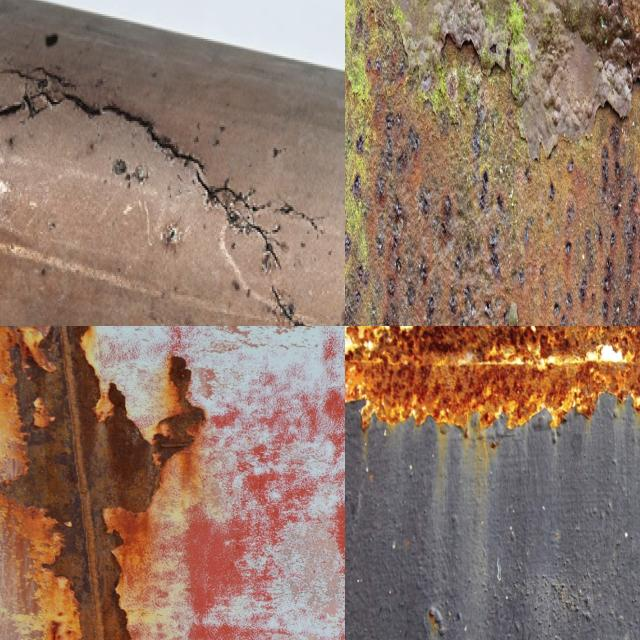Crack: (0, 43, 345, 326)
Pitting Corrosion: (345, 0, 640, 326), (345, 326, 640, 423)
Uniform Corrosion: (3, 326, 153, 640), (152, 356, 205, 465)
